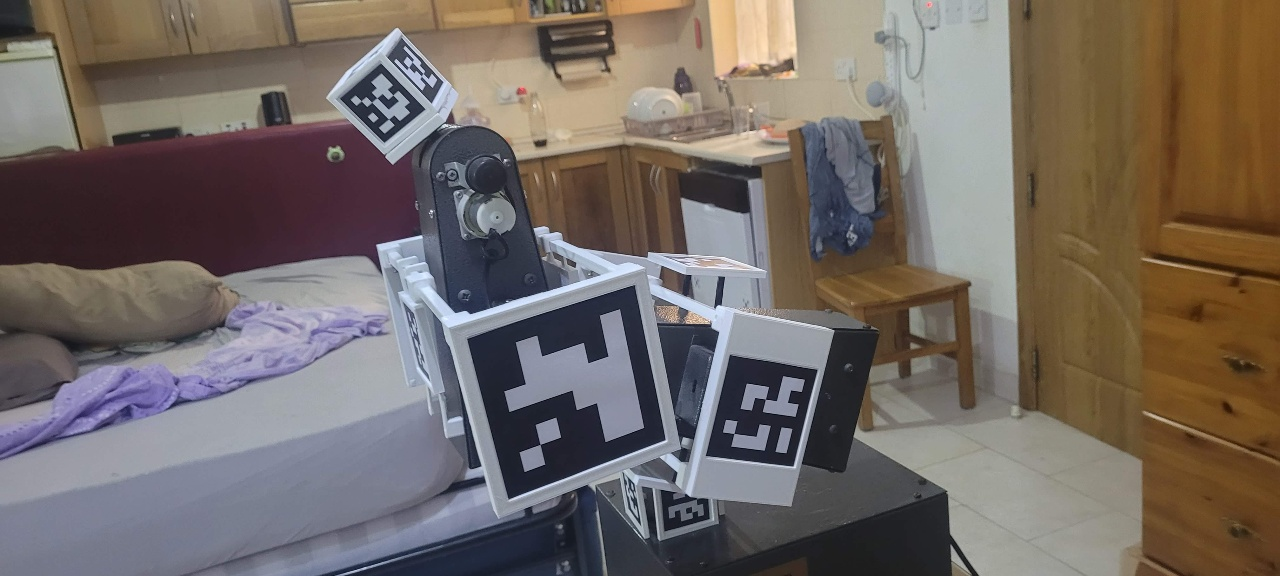Robot: (312, 15, 941, 576)
